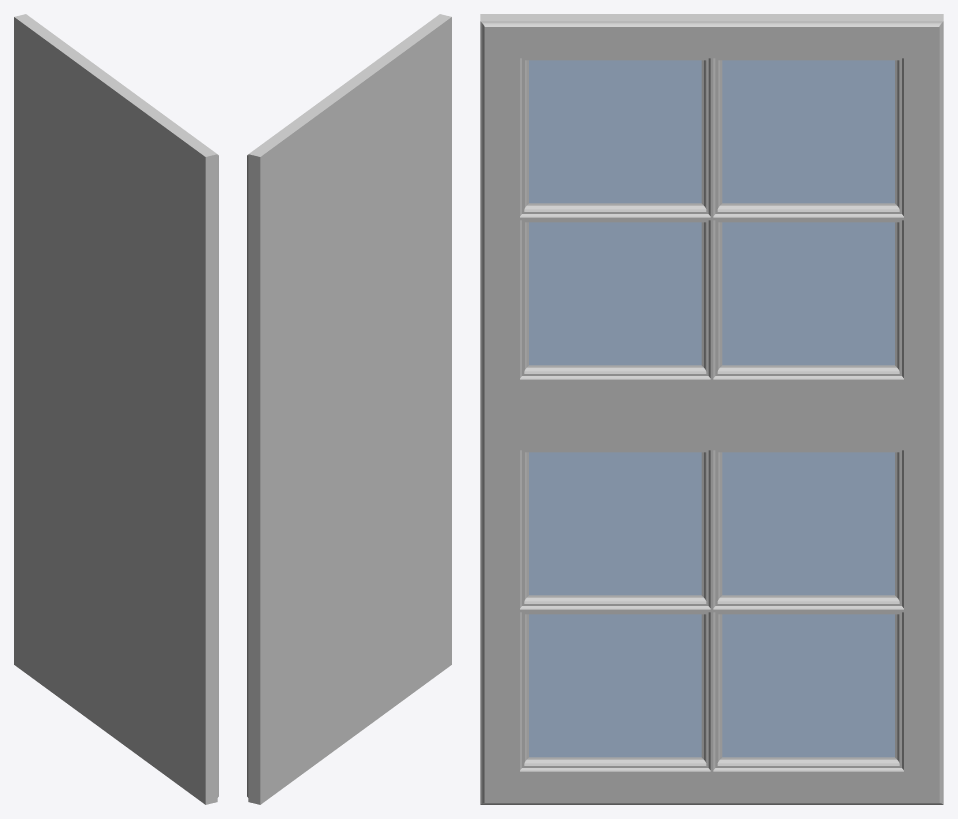
Rendered from Window_Old_HP.fbx.
The picture shows the model from 3 angles, left to right: view 1: azimuth 30°, elevation 25°; view 2: azimuth 150°, elevation 25°; view 3: azimuth 270°, elevation 25°; orthographic projection. The views are drawn at different scales.
Visible parts, largest first — view 1: WindowHP; view 2: WindowHP; view 3: WindowHP.
Part boxes in pixels (bbox=[...]): WindowHP: bbox=[14, 14, 218, 804]; WindowHP: bbox=[247, 14, 451, 804]; WindowHP: bbox=[480, 14, 943, 804].
Size of the model in its own units: 2.56 by 105 by 56.26.
